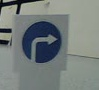right: (22, 21, 62, 63)
